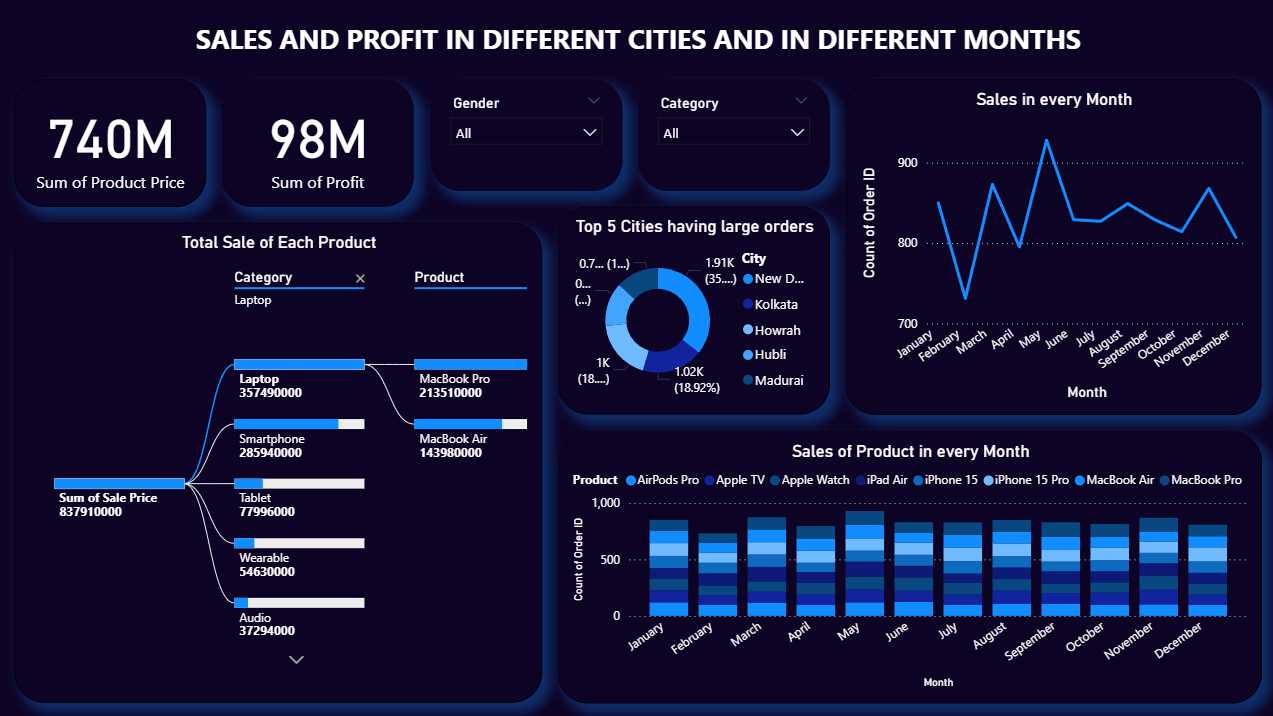

This screenshot's page, from the dashboard's own definition file:
{"tool":"powerbi","page":{"name":"Page 2","canvas":[1280,720],"ordinal":1},"visuals":[{"type":"card","fields":{"Values":["Sum(Apple Sales Data India.Product Price)"]},"box":[16,80,192,128],"z":0},{"type":"card","fields":{"Values":["Sum(Apple Sales Data India.Profit)"]},"box":[224,80,192,128],"z":1000},{"type":"slicer","fields":{"Values":["Apple Sales Data India.Gender"]},"box":[432,80,192,112],"z":2000},{"type":"lineChart","title":"Sales in every Month","fields":{"Y":["CountNonNull(Apple Sales Data India.Order ID)"],"Category":["Apple Sales Data India.Purchase Date.Variation.Date Hierarchy.Month"]},"box":[848,80,416,336],"z":3000},{"type":"columnChart","title":"Sales of Product in every Month","fields":{"Y":["CountNonNull(Apple Sales Data India.Order ID)"],"Category":["Apple Sales Data India.Purchase Date.Variation.Date Hierarchy.Month"],"Series":["Apple Sales Data India.Product"]},"box":[560,432,704,272],"z":4000},{"type":"slicer","fields":{"Values":["Apple Sales Data India.Category"]},"box":[640,80,192,112],"z":5000},{"type":"decompositionTreeVisual","title":"Total Sale of Each Product","fields":{"Analyze":["Sum(Apple Sales Data India.Sale Price)"],"ExplainBy":["Apple Sales Data India.Category","Apple Sales Data India.Product"]},"box":[16,224,528,480],"z":6000},{"type":"donutChart","title":"Top 5 Cities having large orders","fields":{"Y":["CountNonNull(Apple Sales Data India.Order ID)"],"Category":["Apple Sales Data India.City"]},"box":[560,208,272,208],"z":7000},{"type":"textbox","box":[16,16,1248,48],"z":8000}]}

Visuals, with their boxes in screenshot pixels (x1, y1, x2, y2), scaled from the page's 1280x720 canvas onto the 1273x716 screenshot:
card - Sum(Apple Sales Data India.Product Price): 16, 80, 207, 207
card - Sum(Apple Sales Data India.Profit): 223, 80, 414, 207
slicer - Apple Sales Data India.Gender: 430, 80, 621, 191
"Sales in every Month" lineChart: 843, 80, 1257, 414
"Sales of Product in every Month" columnChart: 557, 430, 1257, 700
slicer - Apple Sales Data India.Category: 636, 80, 827, 191
"Total Sale of Each Product" decompositionTreeVisual: 16, 223, 541, 700
"Top 5 Cities having large orders" donutChart: 557, 207, 827, 414
textbox: 16, 16, 1257, 64
